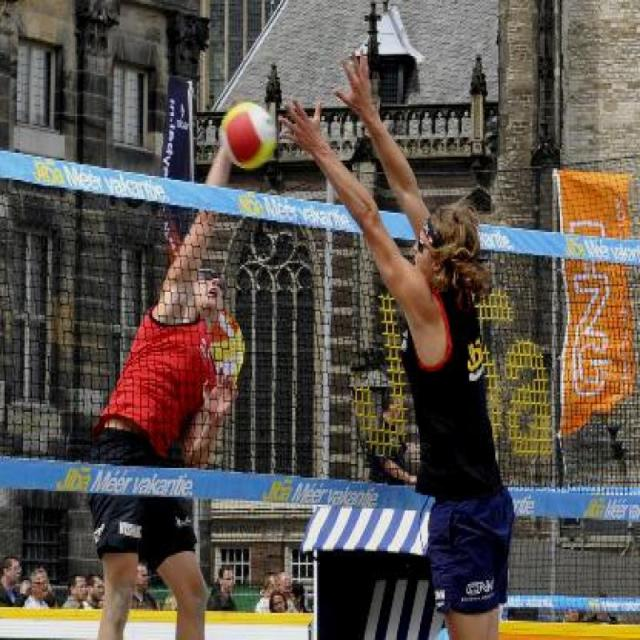volleyball: (218, 99, 278, 168)
